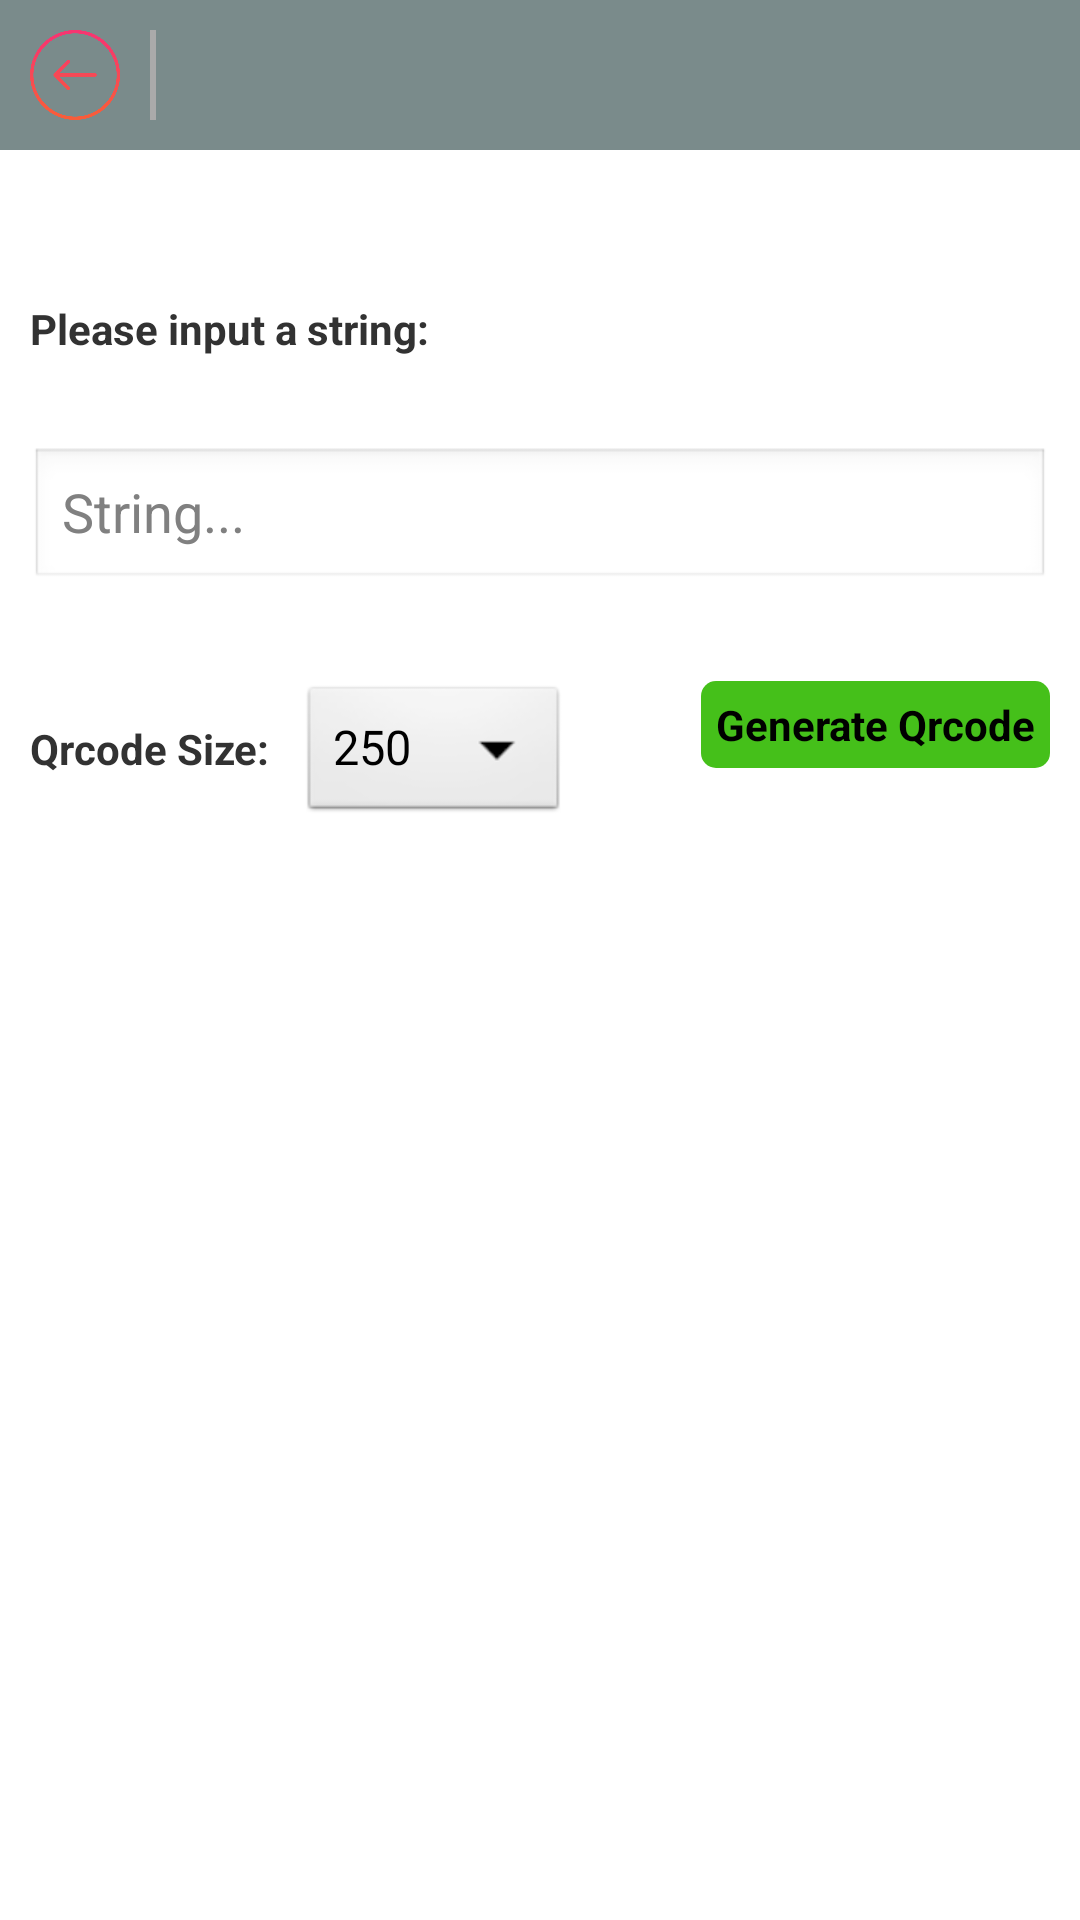

Screen size 1080 x 1920. Icon name, then its center in pixels as point (x, y):
return: point (75, 75)
